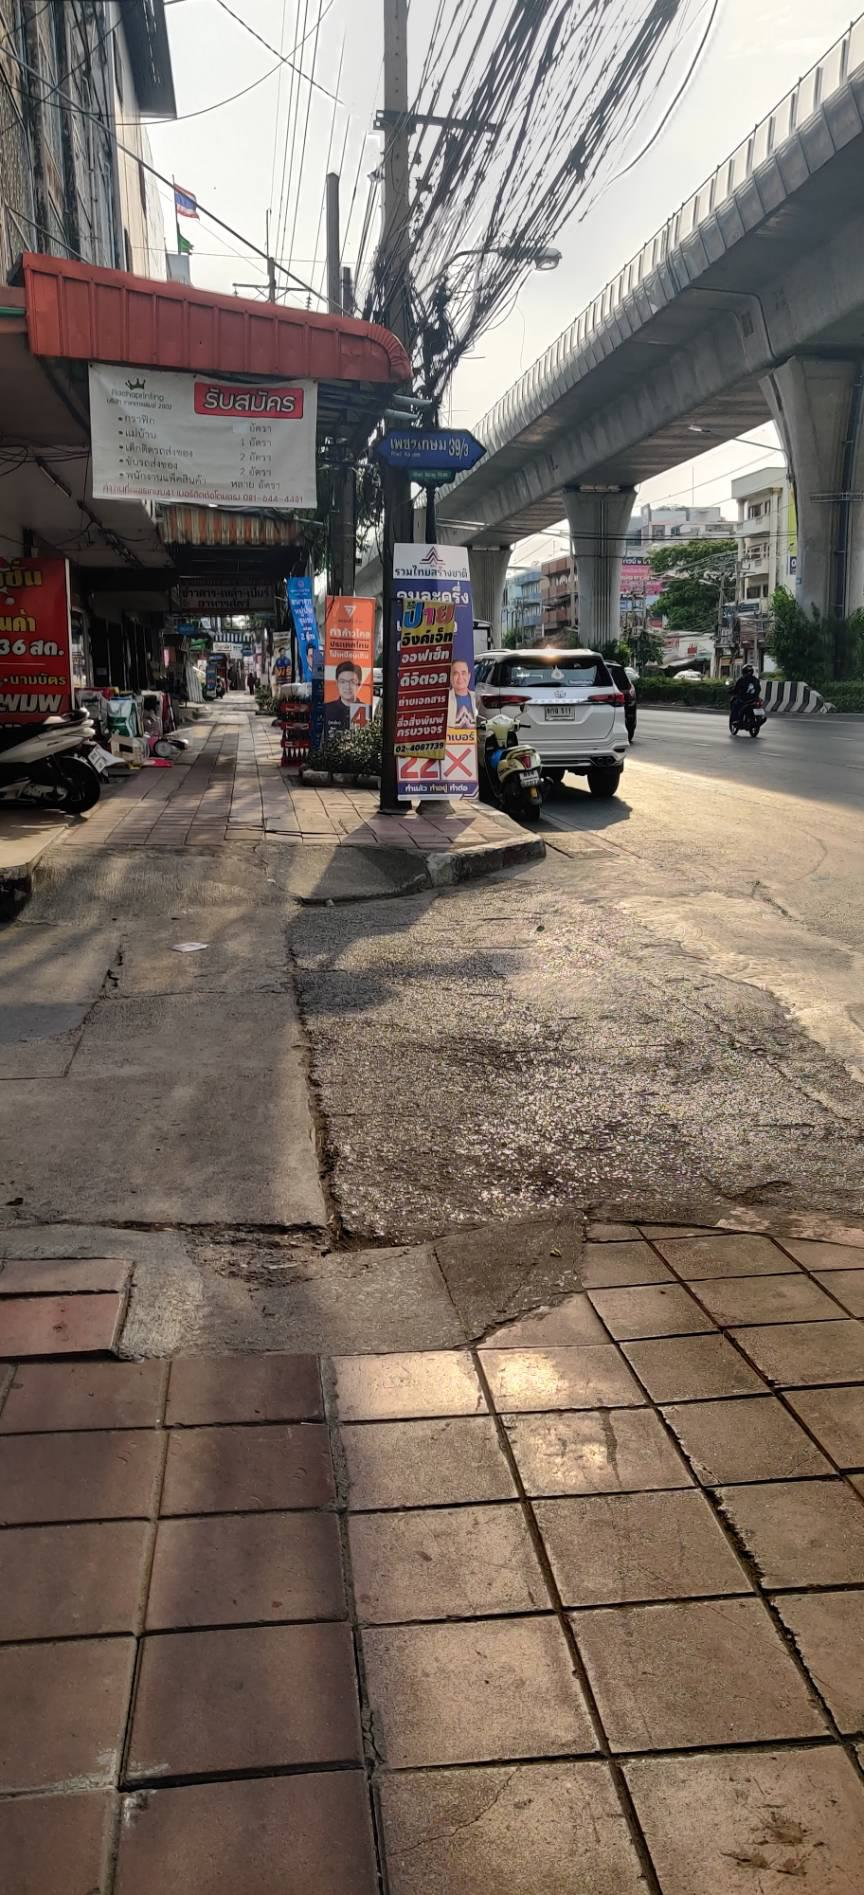Banner: (388, 546, 488, 815)
